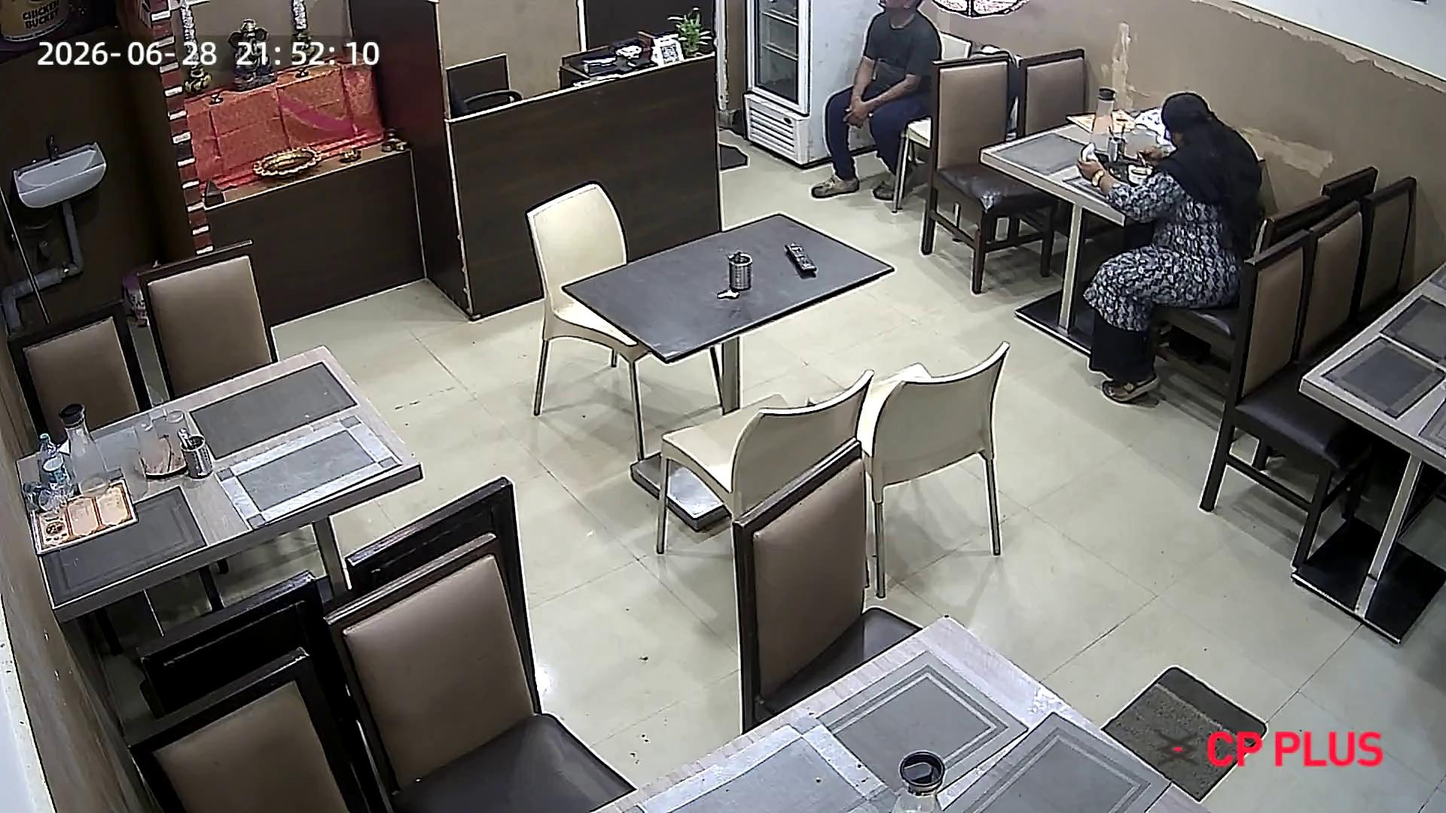clean: (594, 667, 1087, 813), (563, 210, 898, 362), (1299, 286, 1446, 438)
dirty: (16, 339, 426, 611)
occupied: (985, 106, 1291, 238)
